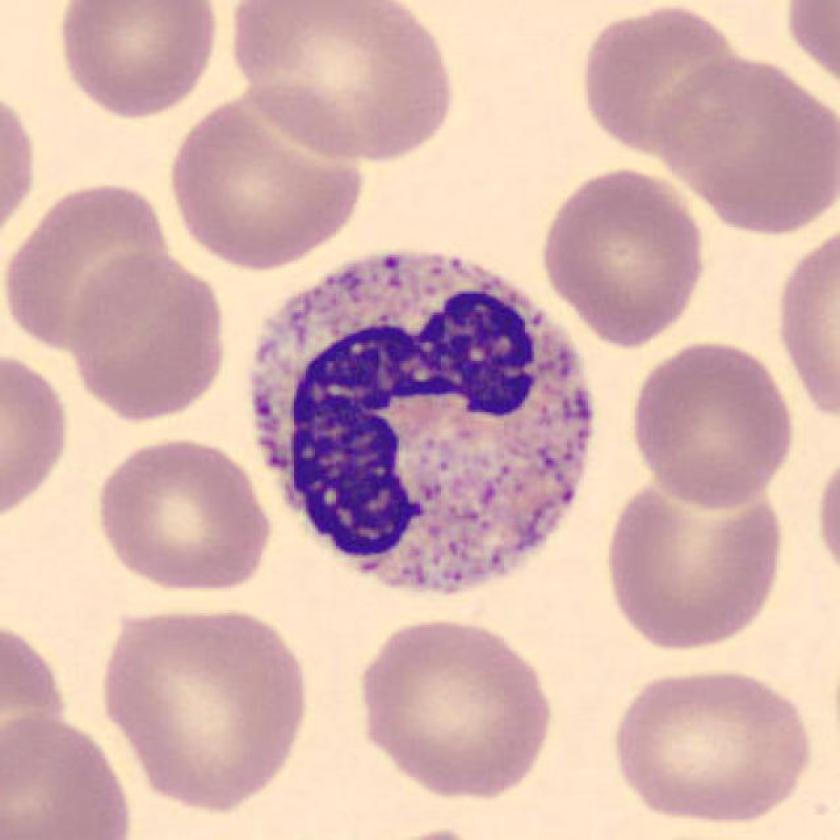neutrophil: (256, 253, 594, 582)
